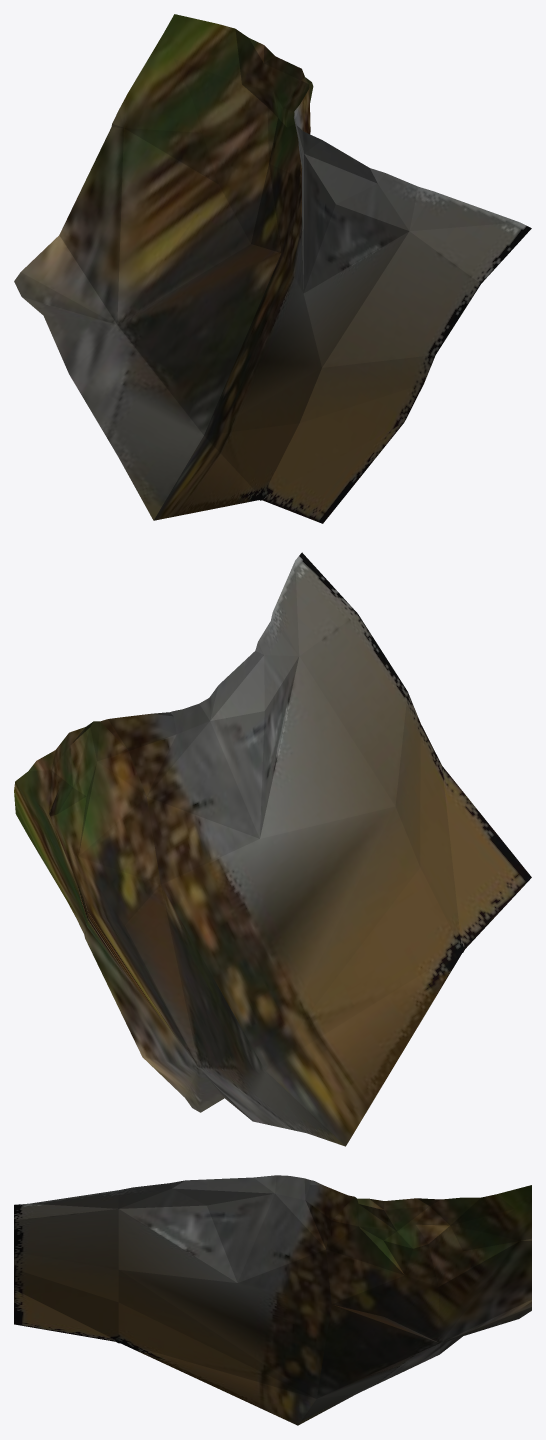
The picture shows the model from 3 angles, top to bottom: view 1: azimuth 30°, elevation 25°; view 2: azimuth 150°, elevation 25°; view 3: azimuth 270°, elevation 25°; orthographic projection. The views are drawn at different scales.
Bounding box in the file's own units: 0.6545 × 1.09 × 1.67.
Materials: 2 (2 with a texture image).
